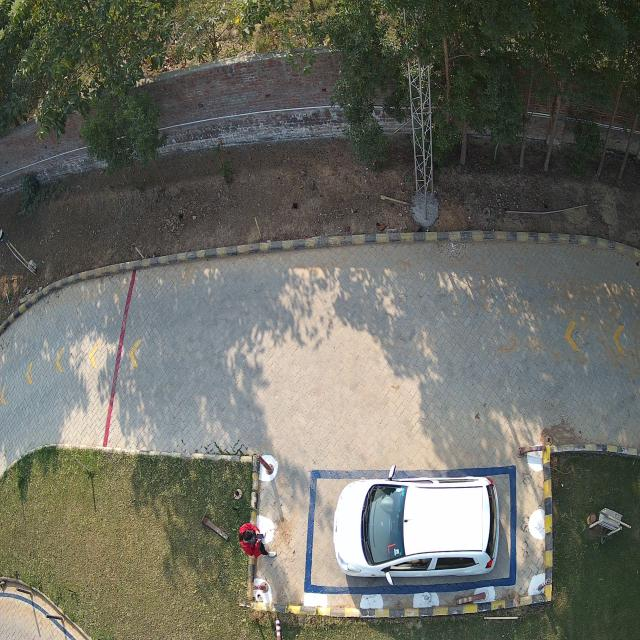car: (332, 477, 499, 583)
